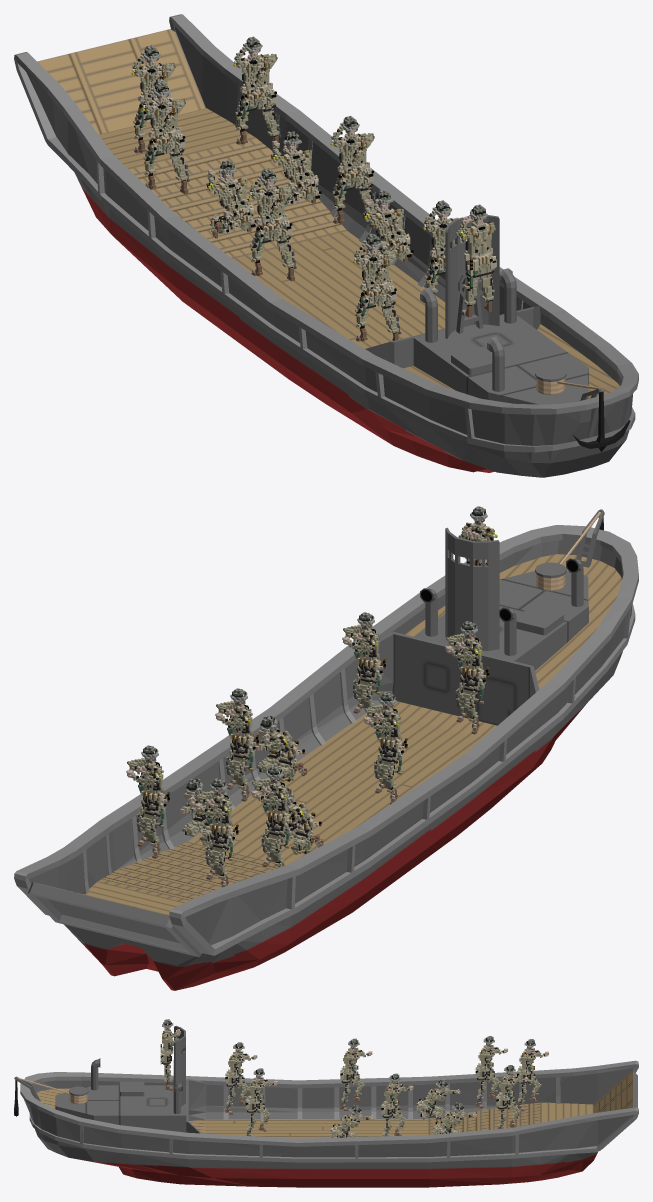
Rendered from landing_craft1.glb.
3 renders of one model, top to bottom at view 1: azimuth 30°, elevation 25°; view 2: azimuth 150°, elevation 25°; view 3: azimuth 270°, elevation 25°, orthographic. The views are drawn at different scales.
Parts seen in each view (by area): view 1: 00_chassis_daihatsu_hull.mesh, crew_soldier_SLOT_05_PASSENGER, crew_soldier_SLOT_01_PASSENGER, crew_soldier_SLOT_08_PASSENGER, crew_soldier_SLOT_09_PASSENGER, crew_soldier_SLOT_04_PASSENGER, crew_soldier_SLOT_00_DRIVER, crew_soldier_SLOT_03_PASSENGER, crew_soldier_SLOT_06_PASSENGER, crew_soldier_SLOT_02_PASSENGER, crew_soldier_SLOT_07_PASSENGER, crew_soldier_SLOT_10_PASSENGER; view 2: 00_chassis_daihatsu_hull.mesh, crew_soldier_SLOT_04_PASSENGER, crew_soldier_SLOT_09_PASSENGER, crew_soldier_SLOT_08_PASSENGER, crew_soldier_SLOT_01_PASSENGER, crew_soldier_SLOT_07_PASSENGER, crew_soldier_SLOT_05_PASSENGER, crew_soldier_SLOT_10_PASSENGER, crew_soldier_SLOT_02_PASSENGER, crew_soldier_SLOT_03_PASSENGER, crew_soldier_SLOT_06_PASSENGER, crew_soldier_SLOT_00_DRIVER; view 3: 00_chassis_daihatsu_hull.mesh, crew_soldier_SLOT_01_PASSENGER, crew_soldier_SLOT_05_PASSENGER, crew_soldier_SLOT_09_PASSENGER, crew_soldier_SLOT_10_PASSENGER, crew_soldier_SLOT_08_PASSENGER, crew_soldier_SLOT_04_PASSENGER, crew_soldier_SLOT_07_PASSENGER, crew_soldier_SLOT_03_PASSENGER, crew_soldier_SLOT_00_DRIVER, crew_soldier_SLOT_02_PASSENGER, crew_soldier_SLOT_06_PASSENGER.
Part boxes in pixels (x1,y1,x2,y2): 00_chassis_daihatsu_hull.mesh: (14, 14, 638, 477); crew_soldier_SLOT_05_PASSENGER: (142, 81, 189, 194); crew_soldier_SLOT_01_PASSENGER: (249, 168, 296, 281); crew_soldier_SLOT_08_PASSENGER: (233, 36, 281, 147); crew_soldier_SLOT_09_PASSENGER: (353, 233, 401, 341); crew_soldier_SLOT_04_PASSENGER: (330, 116, 377, 228); crew_soldier_SLOT_00_DRIVER: (455, 204, 496, 317); crew_soldier_SLOT_03_PASSENGER: (206, 160, 255, 238); crew_soldier_SLOT_06_PASSENGER: (271, 131, 321, 204); crew_soldier_SLOT_02_PASSENGER: (362, 190, 413, 261); crew_soldier_SLOT_07_PASSENGER: (131, 45, 175, 153); crew_soldier_SLOT_10_PASSENGER: (423, 200, 458, 293); 00_chassis_daihatsu_hull.mesh: (14, 509, 638, 990); crew_soldier_SLOT_04_PASSENGER: (215, 688, 259, 801); crew_soldier_SLOT_09_PASSENGER: (445, 621, 489, 734); crew_soldier_SLOT_08_PASSENGER: (126, 745, 170, 858); crew_soldier_SLOT_01_PASSENGER: (363, 692, 407, 804); crew_soldier_SLOT_07_PASSENGER: (194, 778, 238, 887); crew_soldier_SLOT_05_PASSENGER: (251, 765, 295, 867); crew_soldier_SLOT_10_PASSENGER: (342, 612, 386, 721); crew_soldier_SLOT_02_PASSENGER: (254, 716, 306, 782); crew_soldier_SLOT_03_PASSENGER: (282, 788, 323, 854); crew_soldier_SLOT_06_PASSENGER: (180, 778, 232, 845); crew_soldier_SLOT_00_DRIVER: (458, 506, 500, 584); 00_chassis_daihatsu_hull.mesh: (14, 1025, 638, 1187); crew_soldier_SLOT_01_PASSENGER: (340, 1038, 372, 1110); crew_soldier_SLOT_05_PASSENGER: (475, 1036, 507, 1108); crew_soldier_SLOT_09_PASSENGER: (225, 1042, 257, 1114); crew_soldier_SLOT_10_PASSENGER: (245, 1068, 277, 1136); crew_soldier_SLOT_08_PASSENGER: (496, 1065, 528, 1128); crew_soldier_SLOT_04_PASSENGER: (381, 1073, 413, 1136); crew_soldier_SLOT_07_PASSENGER: (517, 1039, 548, 1111); crew_soldier_SLOT_03_PASSENGER: (416, 1079, 460, 1119); crew_soldier_SLOT_00_DRIVER: (160, 1019, 180, 1090); crew_soldier_SLOT_02_PASSENGER: (330, 1105, 373, 1137); crew_soldier_SLOT_06_PASSENGER: (433, 1102, 476, 1134).
Size of the model in its own units: 3.6 by 4.07 by 15.22.
Materials: 37 (1 with a texture image).
